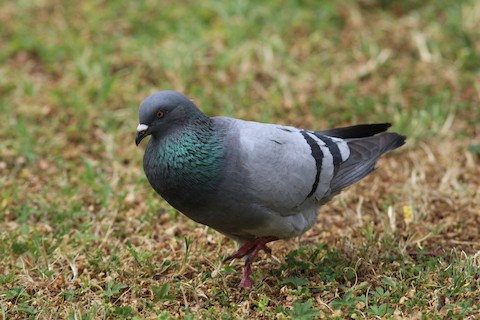pigeon: (132, 88, 411, 290)
